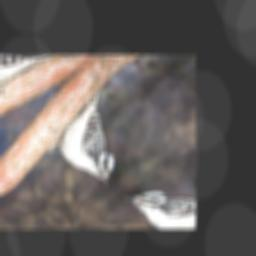Woodpecker: (32, 90, 166, 193)
